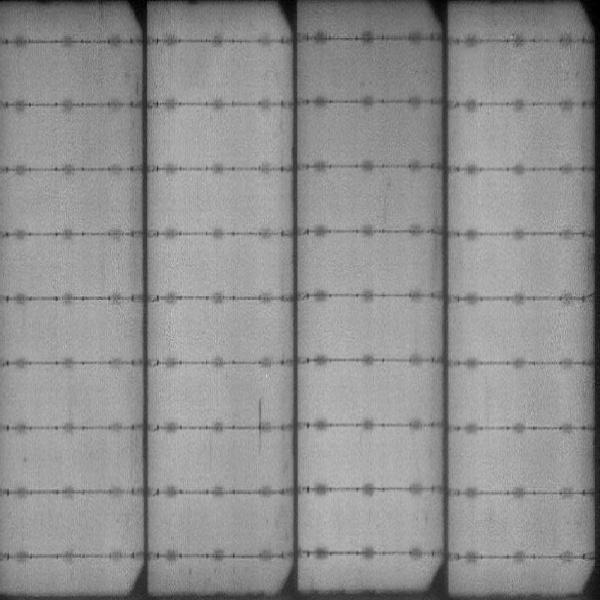scratch: (255, 396, 264, 451)
